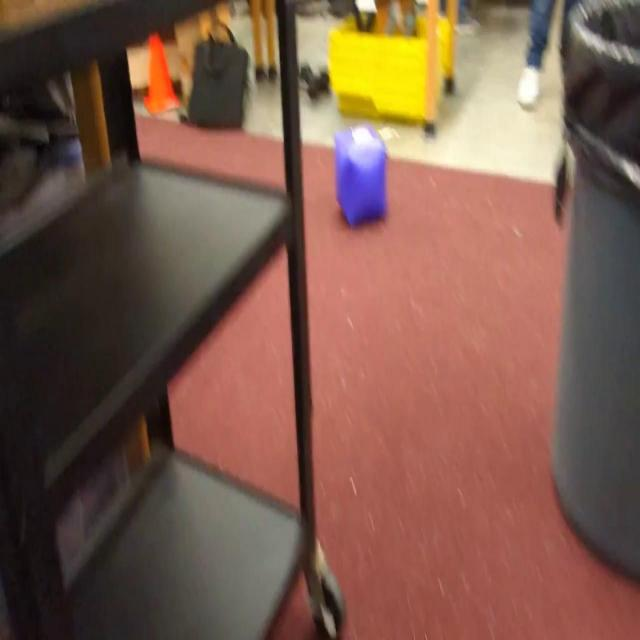frc_cube: (334, 125, 388, 228)
